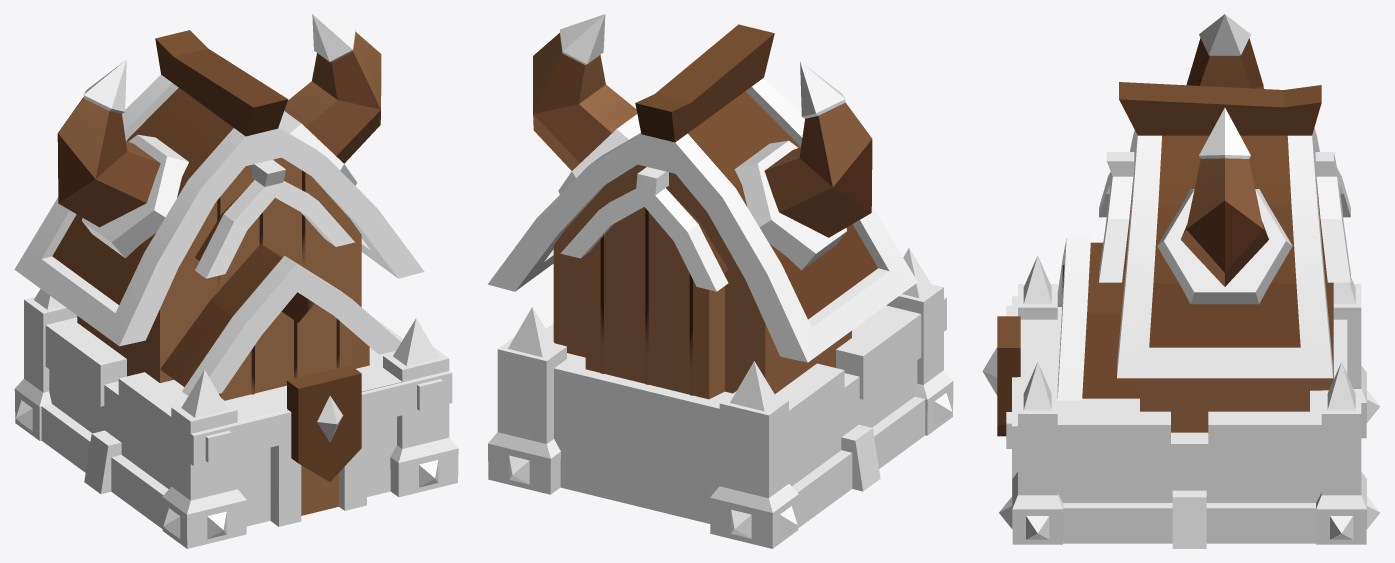
The model's file is Building_CityHall_Lv13.fbx.
3 views of the same model, side by side, from view 1: azimuth 30°, elevation 25°; view 2: azimuth 150°, elevation 25°; view 3: azimuth 270°, elevation 25° (orthographic). The views are drawn at different scales.
Parts seen in each view (by area): view 1: Building_CityHall_Lv13; view 2: Building_CityHall_Lv13; view 3: Building_CityHall_Lv13.
Boxes of the visible parts, bbox=[...] form: Building_CityHall_Lv13: bbox=[14, 14, 458, 548]; Building_CityHall_Lv13: bbox=[487, 14, 953, 548]; Building_CityHall_Lv13: bbox=[982, 14, 1380, 548].
Size of the model in its own units: 1.07 by 1.27 by 1.11.
